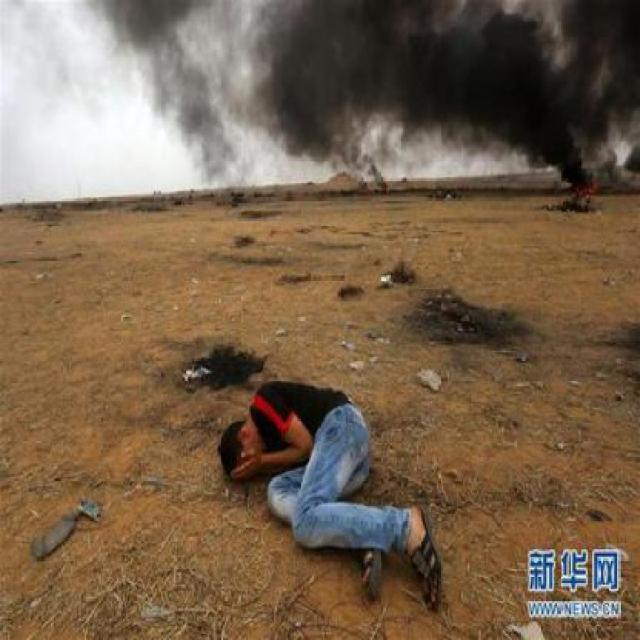fall: (203, 366, 448, 609)
